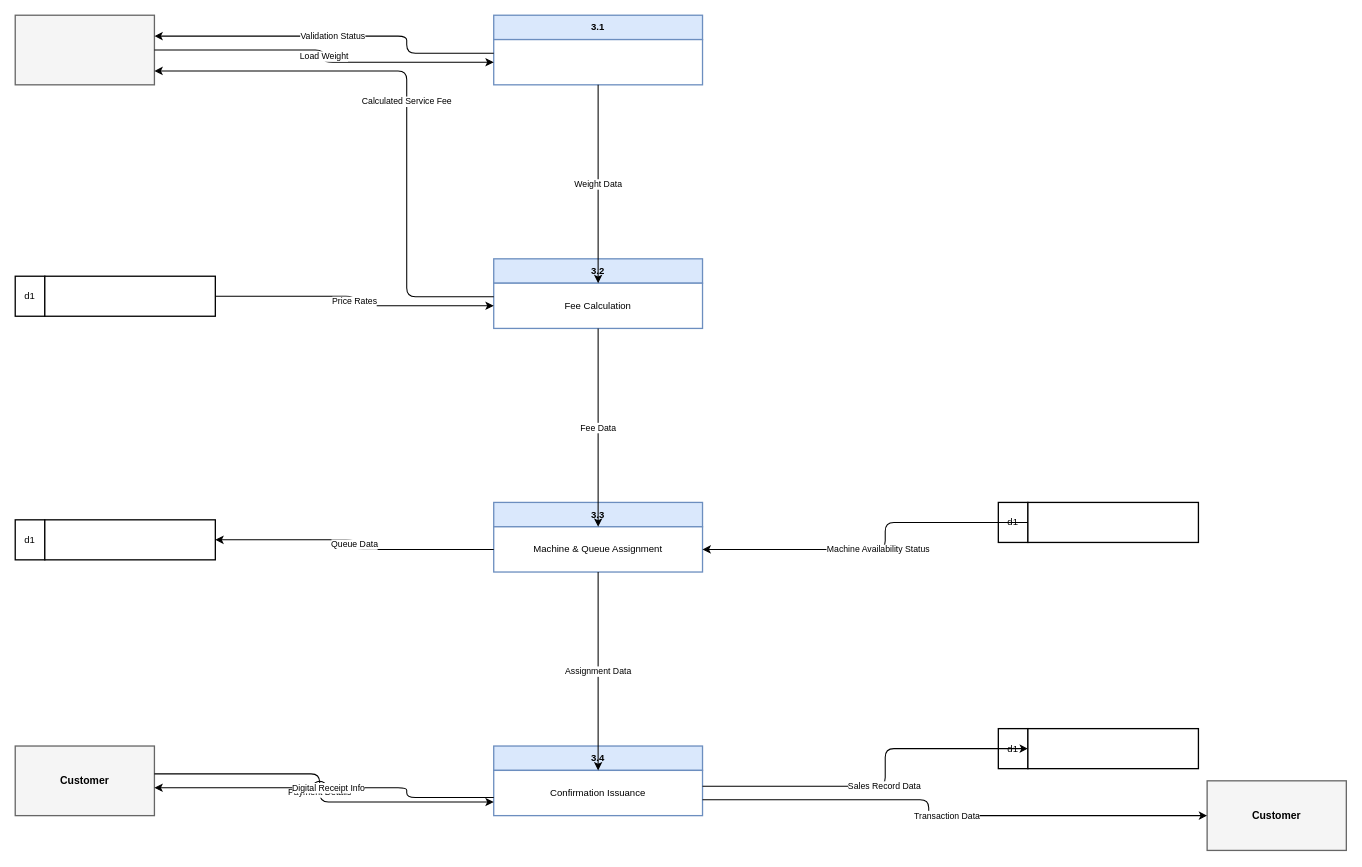
Image size: 1362x867. Some labels were removed from this diagram. Here are the shapes that lost their labels. From the top down, the box of each, then its label:
(14, 14, 155, 85): Staff
(493, 39, 703, 85): Load Validation & Weight Check
(44, 275, 216, 317): tbl_system_settings
(44, 519, 216, 560): tbl_queue
(1027, 501, 1199, 543): tbl_machine_status
(1027, 728, 1199, 769): tbl_transaction
